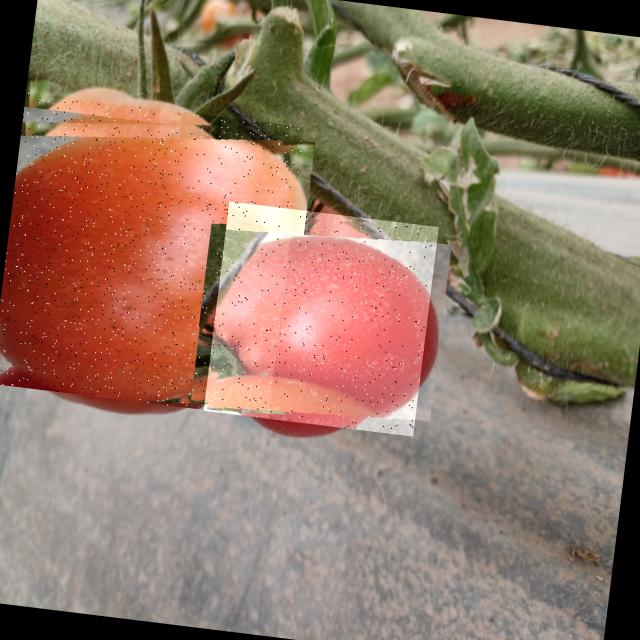Ripe Tomato: (0, 92, 303, 417), (203, 201, 438, 436)
